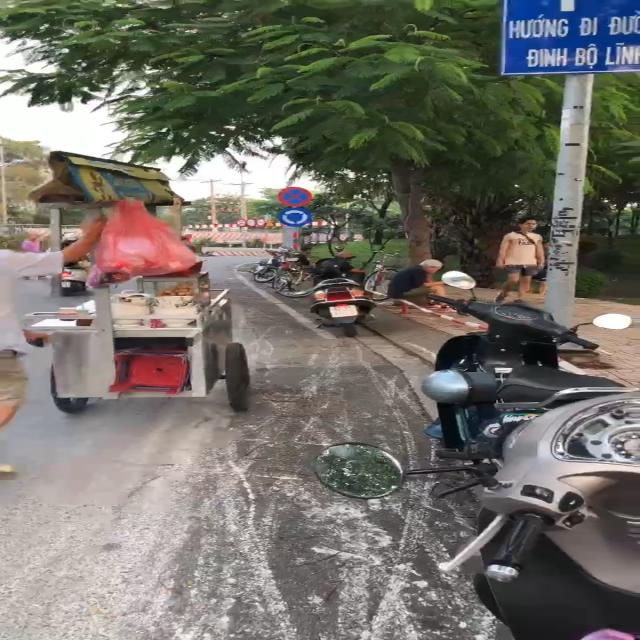Bien bao cam dung xe va do xe: (273, 185, 314, 206)
Bien bao noi giao nhau chay theo vong xuyen: (274, 208, 318, 228)
